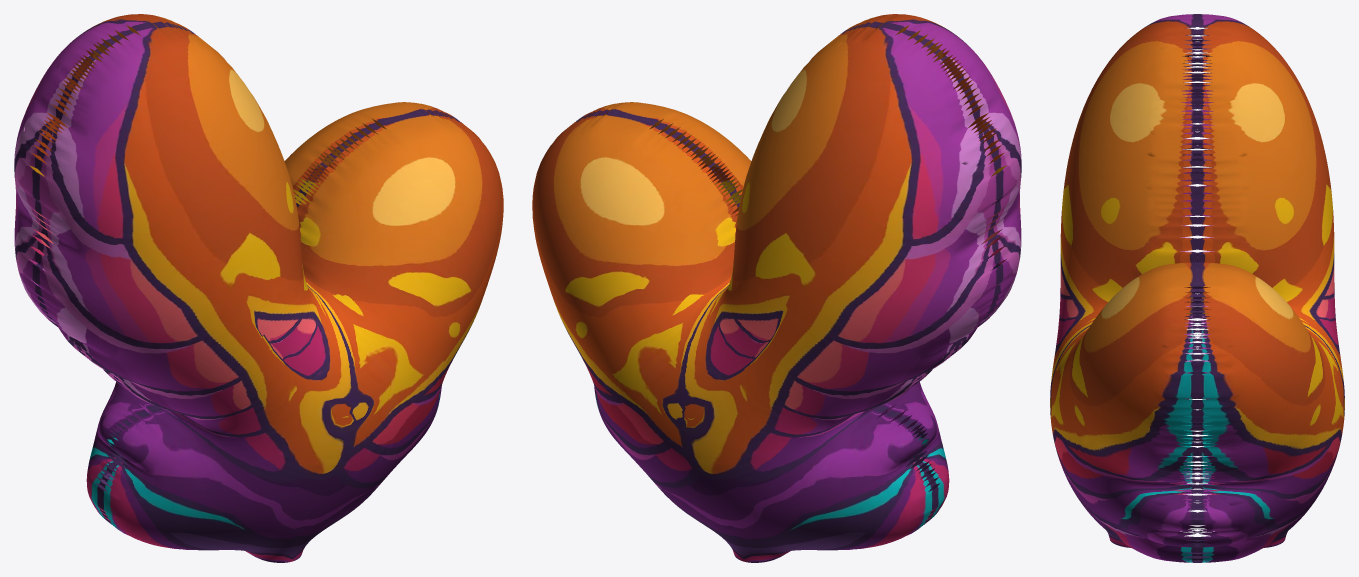
File: twin_pod.glb
The picture shows the model from 3 angles, left to right: view 1: azimuth 30°, elevation 25°; view 2: azimuth 150°, elevation 25°; view 3: azimuth 270°, elevation 25°; orthographic projection. The views are drawn at different scales.
Visible parts, largest first — view 1: twin_pod; view 2: twin_pod; view 3: twin_pod.
Part boxes in pixels (left/top/right/bottom): twin_pod: left=14, top=14, right=503, bottom=562; twin_pod: left=532, top=14, right=1021, bottom=562; twin_pod: left=1050, top=14, right=1344, bottom=562.
Size of the model in its own units: 0.9877 by 1.1 by 0.6218.
Materials: 1 (1 with a texture image).
